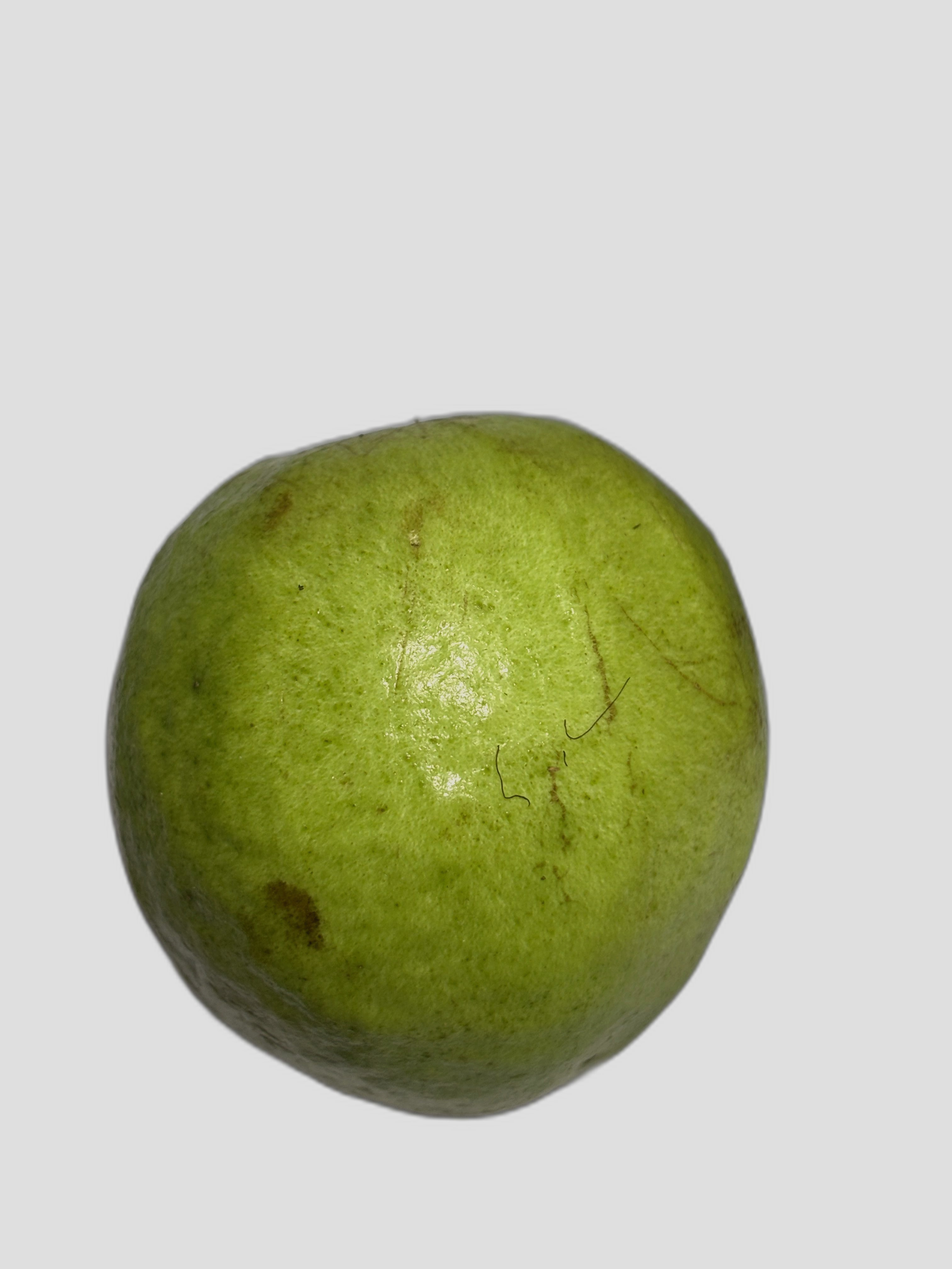guava: (72, 80, 796, 1023)
